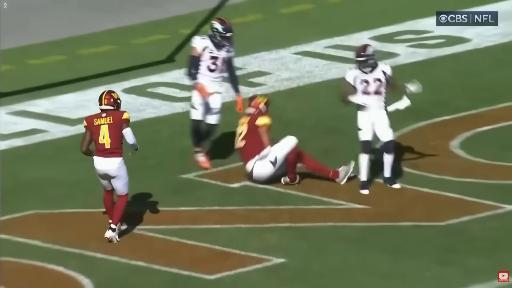Helmet: (210, 18, 233, 47), (356, 44, 377, 73), (99, 90, 121, 109), (248, 95, 269, 113)
Jersey: (84, 110, 129, 157), (345, 64, 391, 109), (191, 36, 234, 83), (235, 112, 271, 164)
Player: (342, 44, 417, 194), (235, 95, 354, 185), (81, 90, 138, 242), (188, 18, 243, 169)
